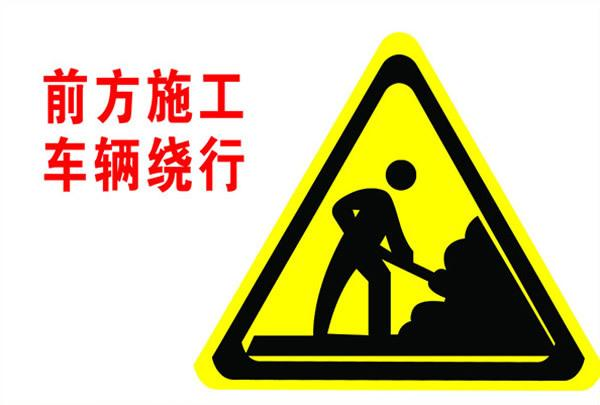sign: (40, 43, 591, 387)
